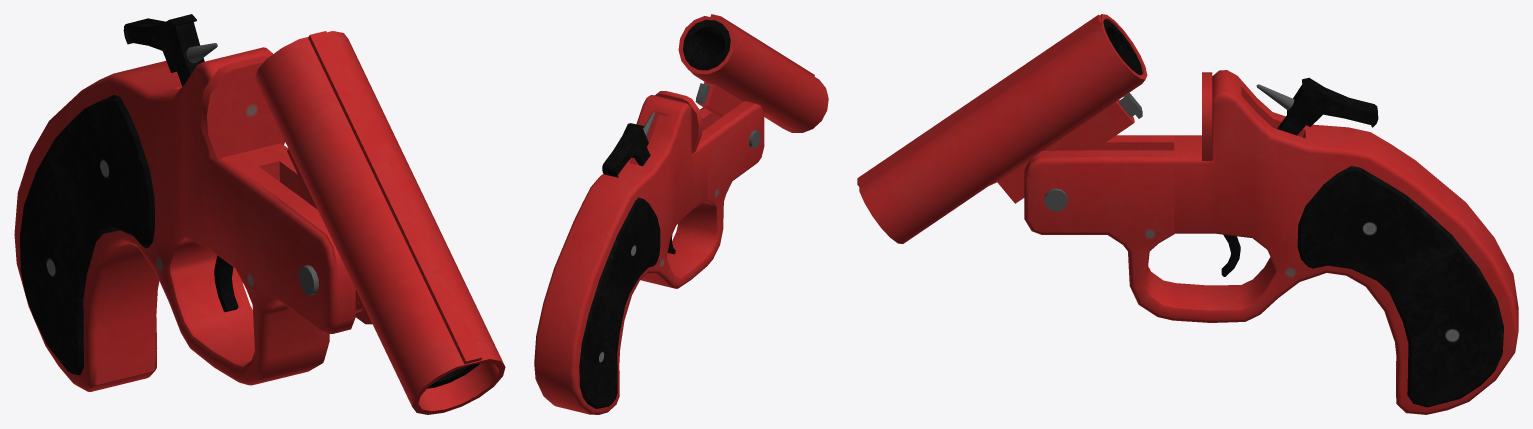
The model's file is flare_gun.medium.glb.
3 views of the same model, side by side, from view 1: azimuth 30°, elevation 25°; view 2: azimuth 150°, elevation 25°; view 3: azimuth 270°, elevation 25° (orthographic). The views are drawn at different scales.
Visible parts, largest first — view 1: Trigger; view 2: Trigger; view 3: Trigger.
Boxes of the visible parts, x1=… form: Trigger: x1=14, y1=14, x2=505, y2=414; Trigger: x1=534, y1=14, x2=828, y2=414; Trigger: x1=857, y1=14, x2=1518, y2=414.
Size of the model in its own units: 0.0287 by 0.1546 by 0.24.
1 material, 1 textured.
